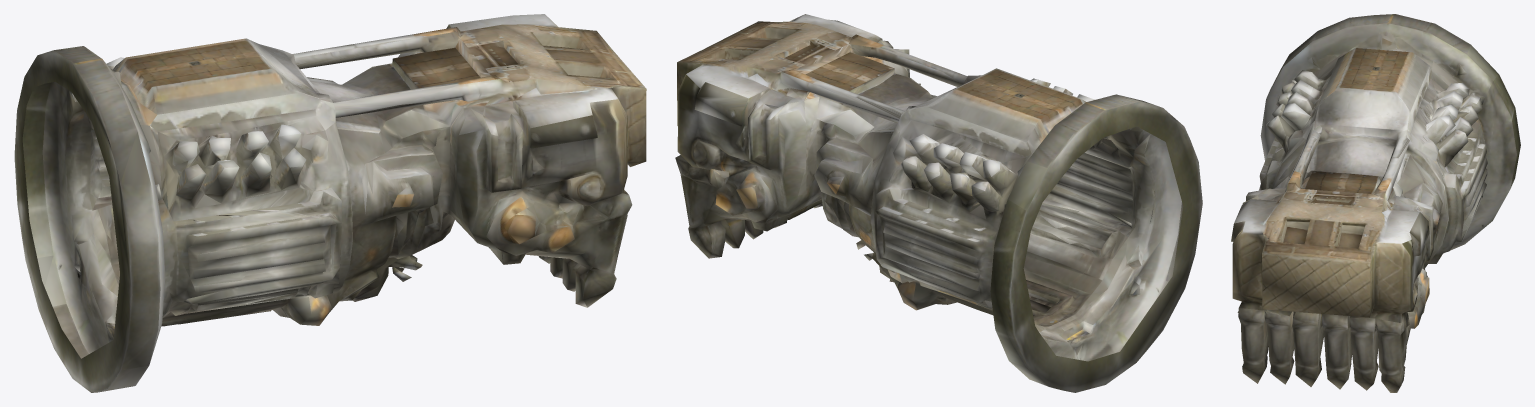
Rendered from prefab_thunder_guantlet.obj.
The picture shows the model from 3 angles, left to right: view 1: azimuth 30°, elevation 25°; view 2: azimuth 150°, elevation 25°; view 3: azimuth 270°, elevation 25°; orthographic projection. The views are drawn at different scales.
Parts seen in each view (by area): view 1: Gauntlet_of_Steam_1203170438_texture; view 2: Gauntlet_of_Steam_1203170438_texture; view 3: Gauntlet_of_Steam_1203170438_texture.
Boxes of the visible parts, <box> form: Gauntlet_of_Steam_1203170438_texture: <box>14,14,646,392</box>; Gauntlet_of_Steam_1203170438_texture: <box>675,14,1202,392</box>; Gauntlet_of_Steam_1203170438_texture: <box>1231,14,1520,392</box>.
Size of the model in its own units: 2.12 by 1.2 by 1.31.
